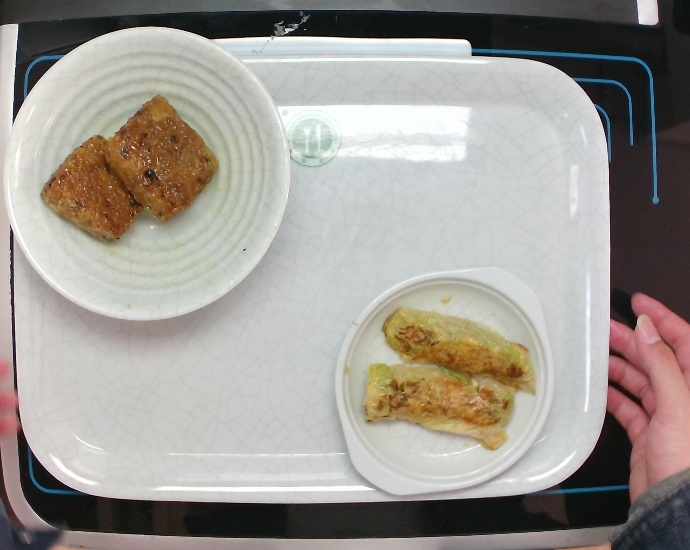JYsf-Shuang_Er_Pan: (329, 263, 557, 498)
JYsf-Xiao_Tang_Wan: (1, 24, 293, 323)
